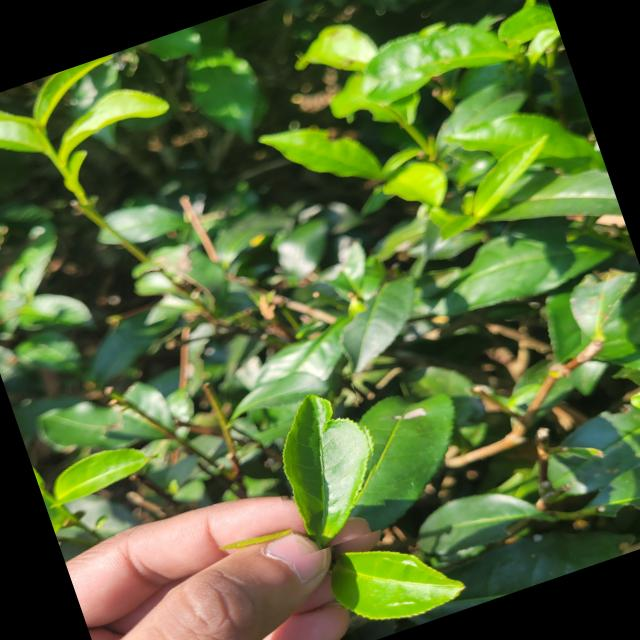Catagory A(1-2 days): (249, 371, 401, 556)
